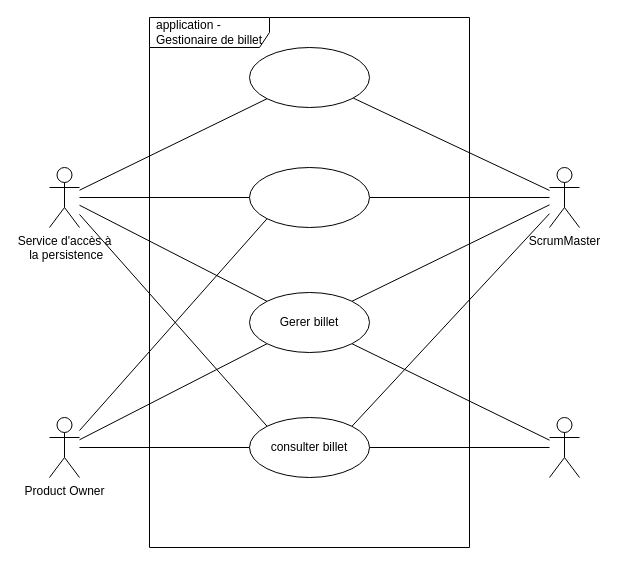
The diagram is 629 pixels wide and 565 high, and some of its shapes have lost their labels. Each missing label, with the box of its shape:
Coéquipier Scrum: (548, 416, 580, 478)
Gerer projet: (248, 166, 370, 228)
Gerer usager: (248, 46, 370, 108)
